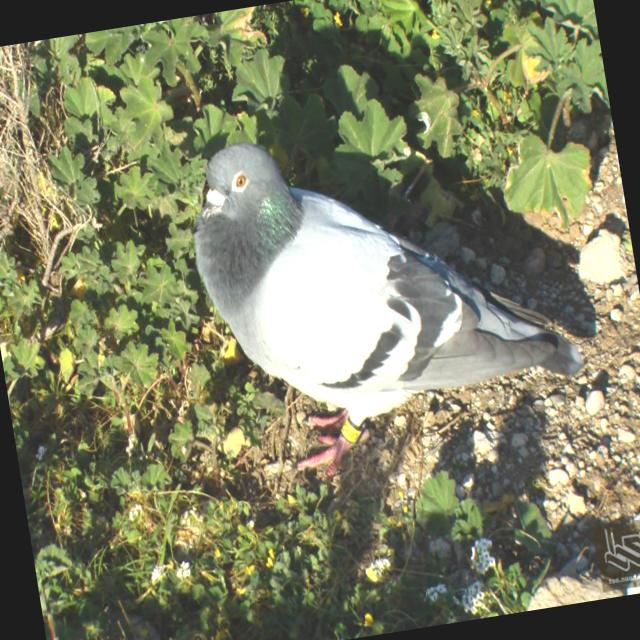bird: (176, 82, 590, 502)
